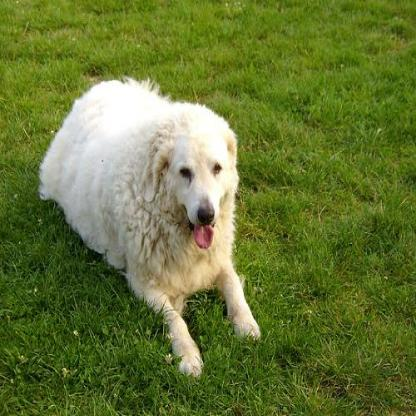kuvasz: (35, 71, 263, 379)
